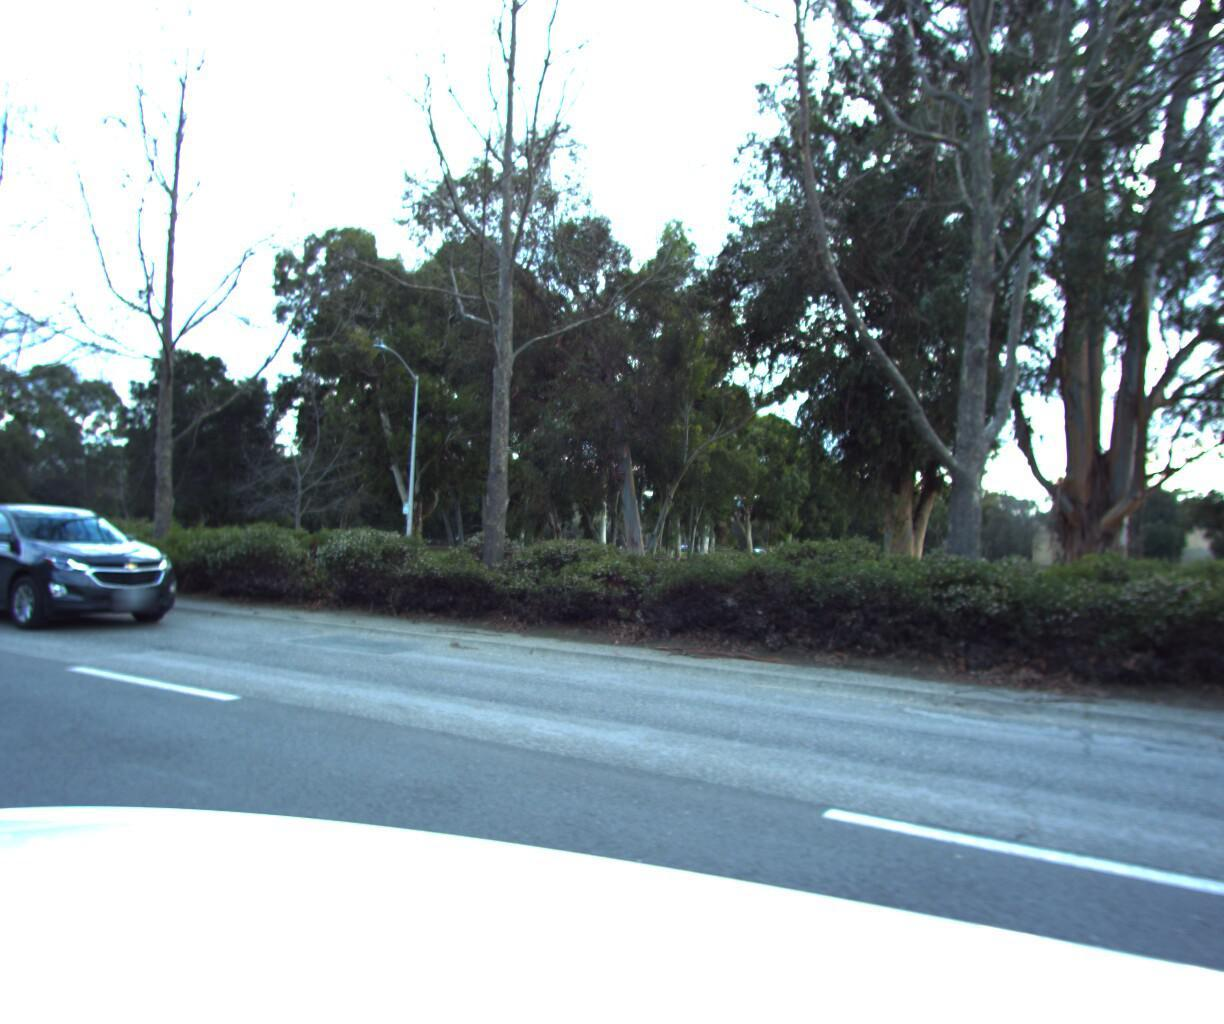car: (0, 497, 198, 636)
